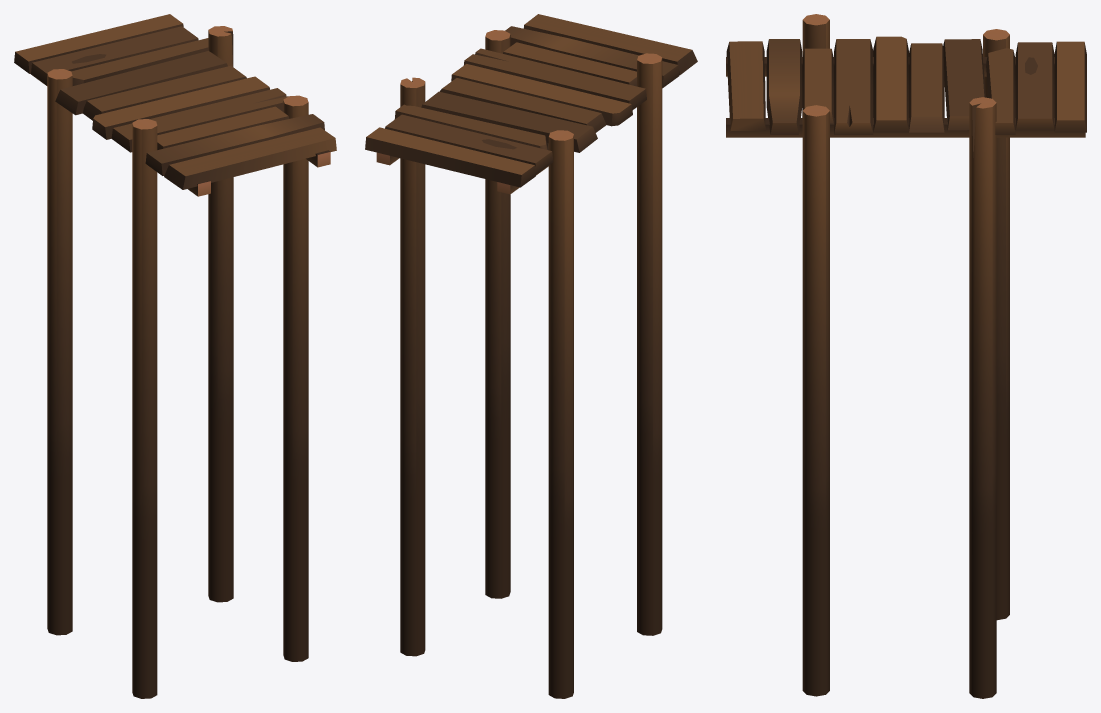
Rendered from Wooden_Pier_1A.fbx.
3 renders of one model, left to right at view 1: azimuth 30°, elevation 25°; view 2: azimuth 150°, elevation 25°; view 3: azimuth 270°, elevation 25°, orthographic. The views are drawn at different scales.
Visible parts, largest first — view 1: Wooden_Pier_1A; view 2: Wooden_Pier_1A; view 3: Wooden_Pier_1A.
Part boxes in pixels (x1,y1,x2,y2): Wooden_Pier_1A: (14, 14, 336, 698); Wooden_Pier_1A: (365, 14, 697, 698); Wooden_Pier_1A: (726, 14, 1086, 698).
Bounding box in the file's own units: 239 × 727 × 400.
